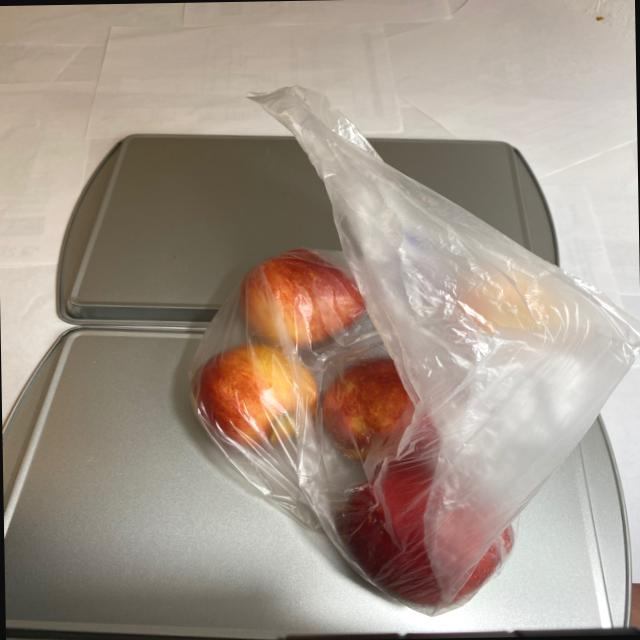apple: (185, 232, 524, 620)
